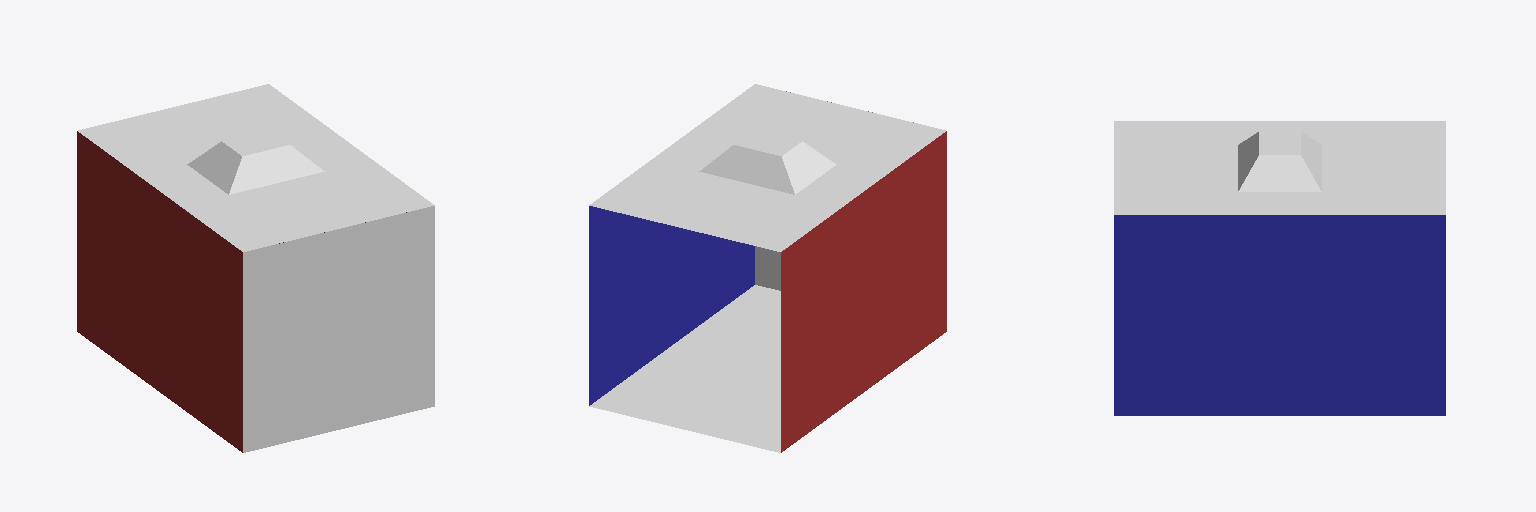
The model's file is cornellbox_empty3.obj.
The picture shows the model from 3 angles: view 1: azimuth 30°, elevation 25°; view 2: azimuth 150°, elevation 25°; view 3: azimuth 270°, elevation 25°; orthographic projection.
Parts seen in each view (by area): view 1: Box_Cube, Wall0_Cube.001; view 2: Box_Cube, Wall0_Cube.001, Wall1_Cube.002; view 3: Wall1_Cube.002, Box_Cube.
Boxes of the visible parts, <box> form: Box_Cube: <box>78,84,434,452</box>; Wall0_Cube.001: <box>77,131,242,452</box>; Box_Cube: <box>589,84,945,452</box>; Wall0_Cube.001: <box>781,131,946,452</box>; Wall1_Cube.002: <box>589,206,754,405</box>; Wall1_Cube.002: <box>1114,215,1445,415</box>; Box_Cube: <box>1114,121,1445,214</box>.
Size of the model in its own units: 2 by 2.25 by 3.